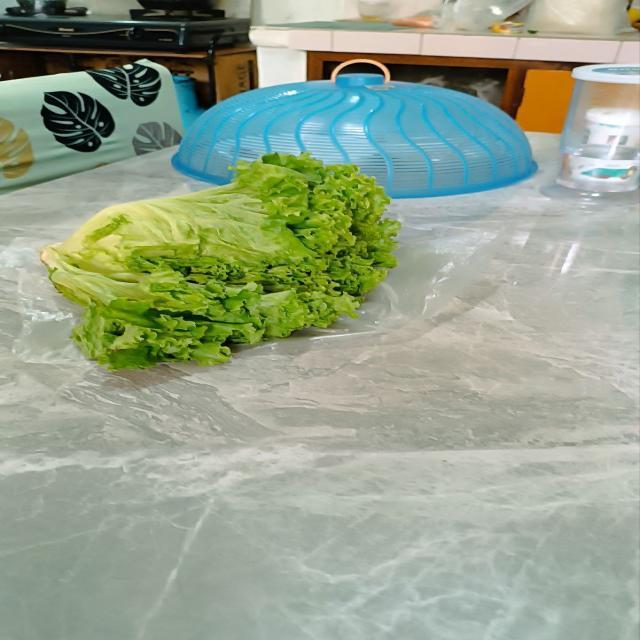Lettuce-Ready-to-Harvest: (38, 152, 385, 366)
